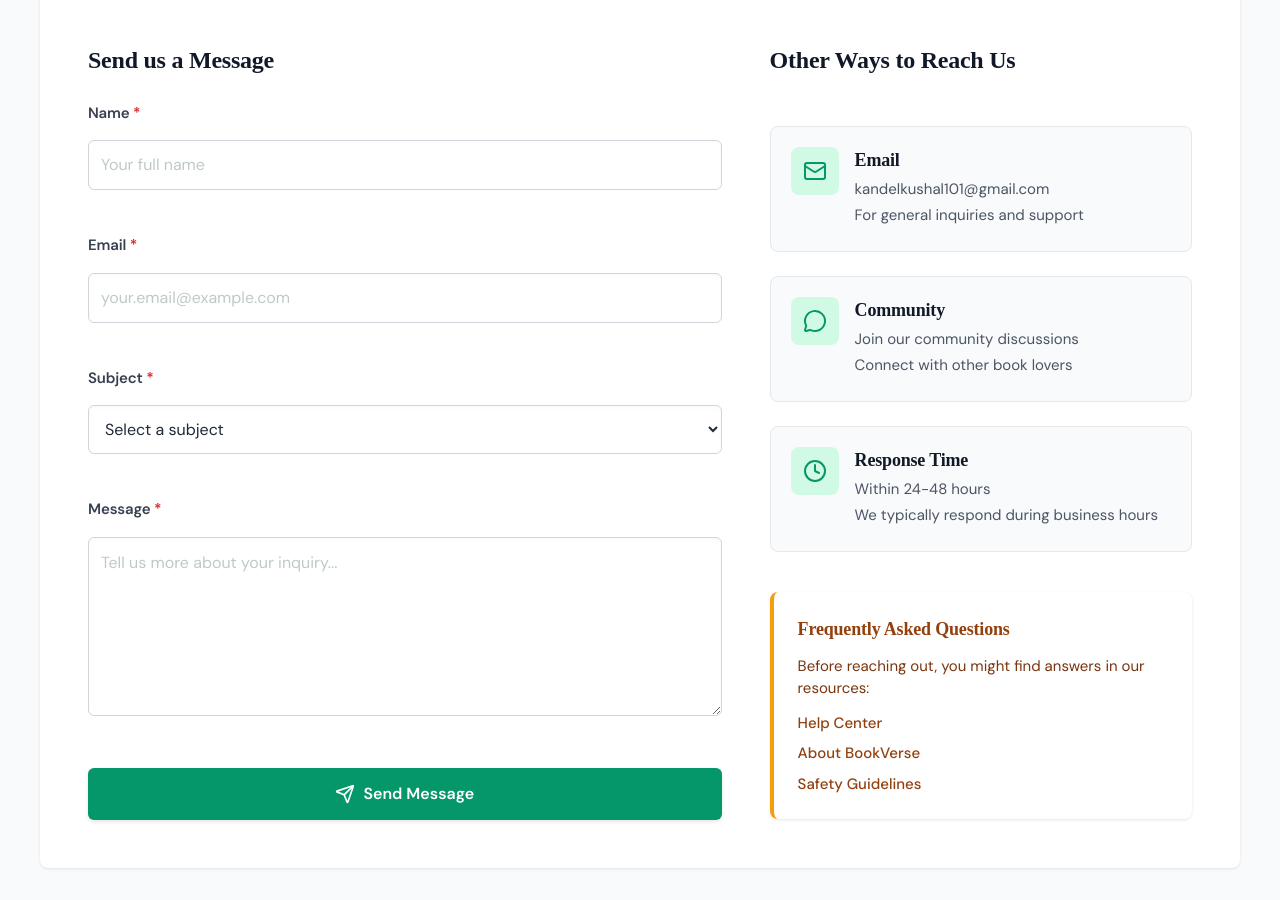
Test case: ContactPage › validates required fields
(page scrolled)
Click the button "Send Message" at (405, 794), box [88,768,722,820]
(page scrolled)
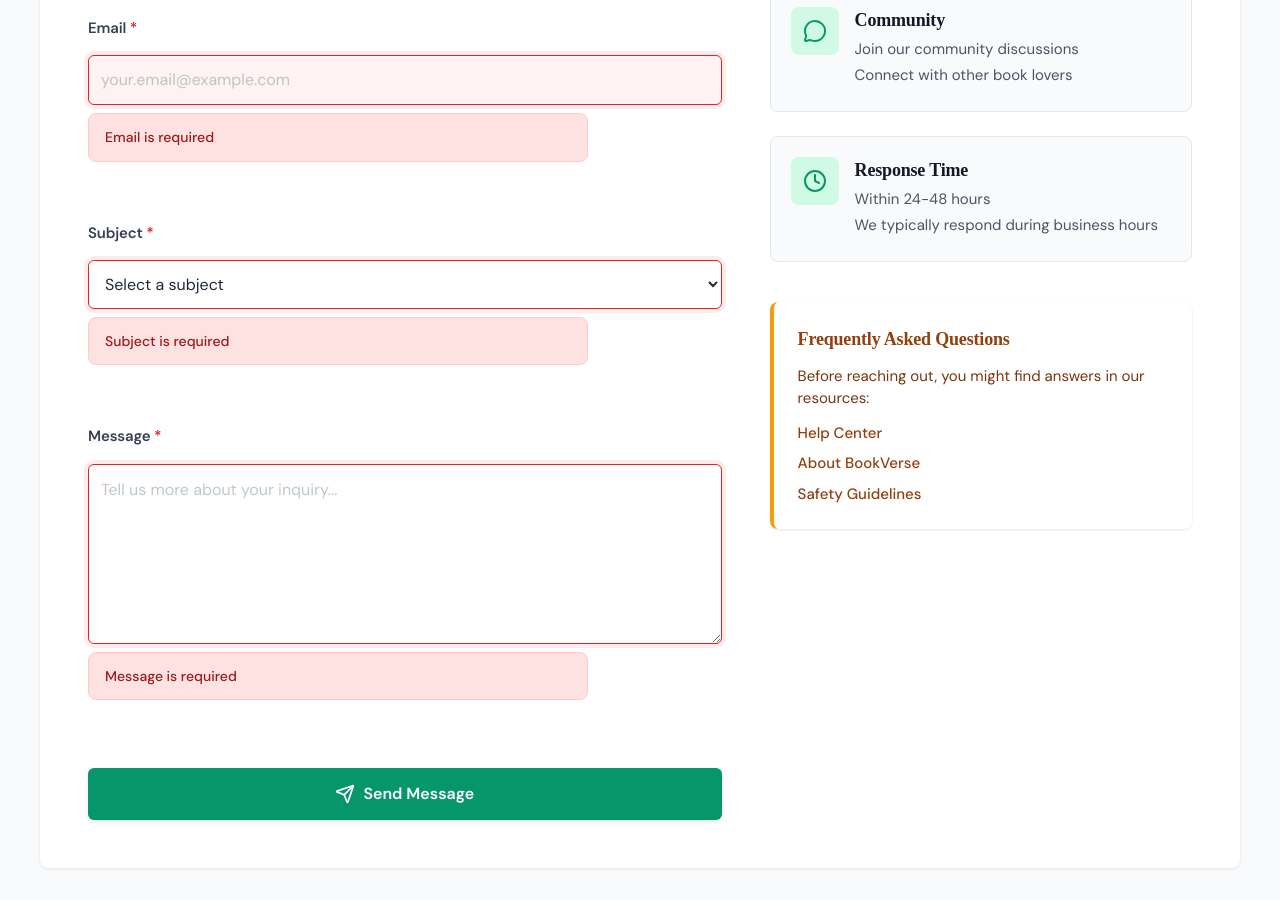
Now the text "Email is required" is shown, box [88,113,588,162]
Now the text "Subject is required" is shown, box [88,317,588,366]
Now the text "Message is required" is shown, box [88,652,588,700]
